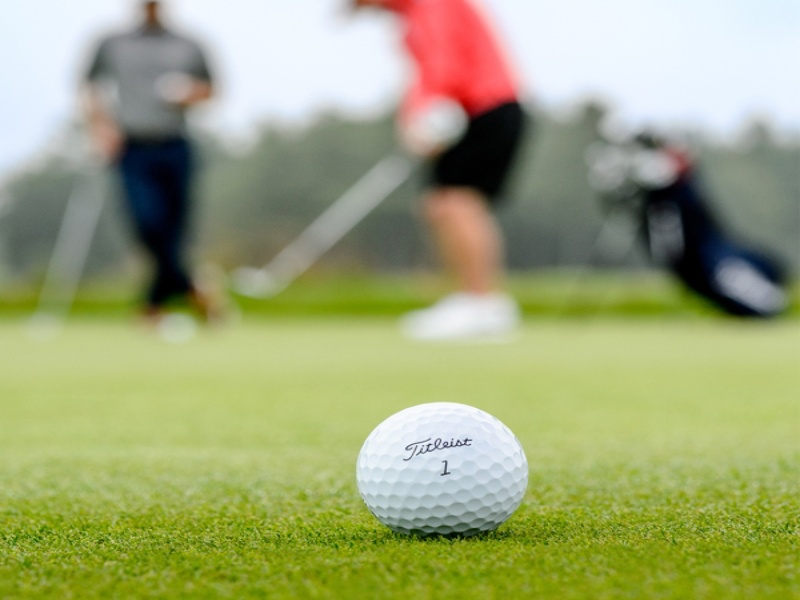golf_ball: (356, 402, 528, 542)
